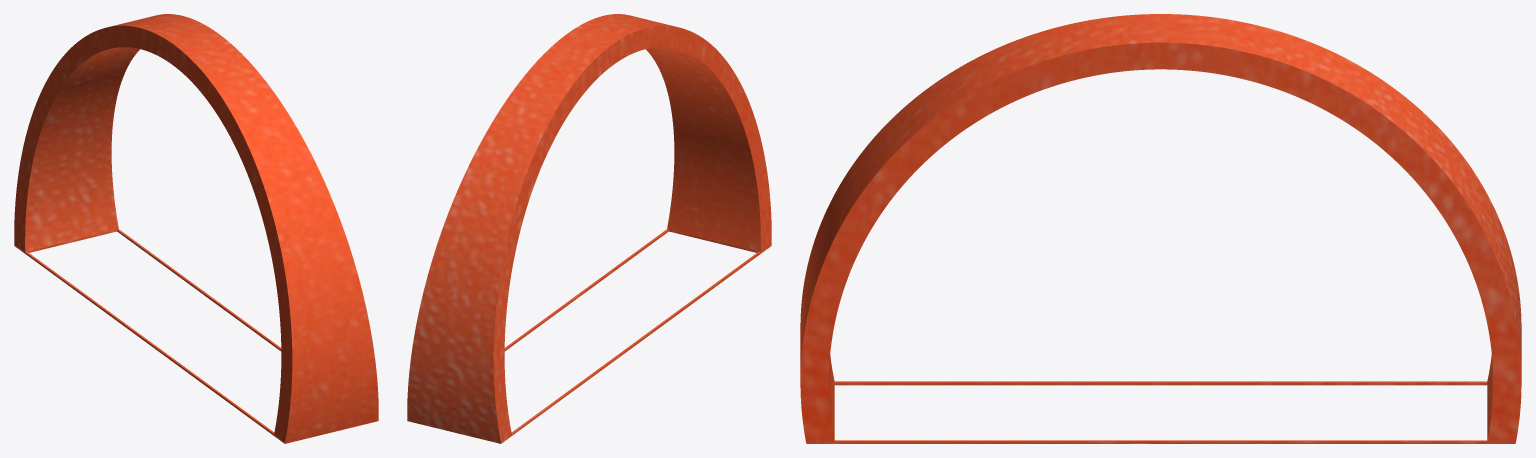
The model's file is gate.dae.
The picture shows the model from 3 angles, left to right: view 1: azimuth 30°, elevation 25°; view 2: azimuth 150°, elevation 25°; view 3: azimuth 270°, elevation 25°; orthographic projection. The views are drawn at different scales.
Visible parts, largest first — view 1: Gate; view 2: Gate; view 3: Gate.
Boxes of the visible parts, x1,y1,x2,y2 form: Gate: (14,14,378,443); Gate: (407,14,771,443); Gate: (800,14,1521,443).
Size of the model in its own units: 0.5 by 2.54 by 1.5.
1 material, 1 textured.
